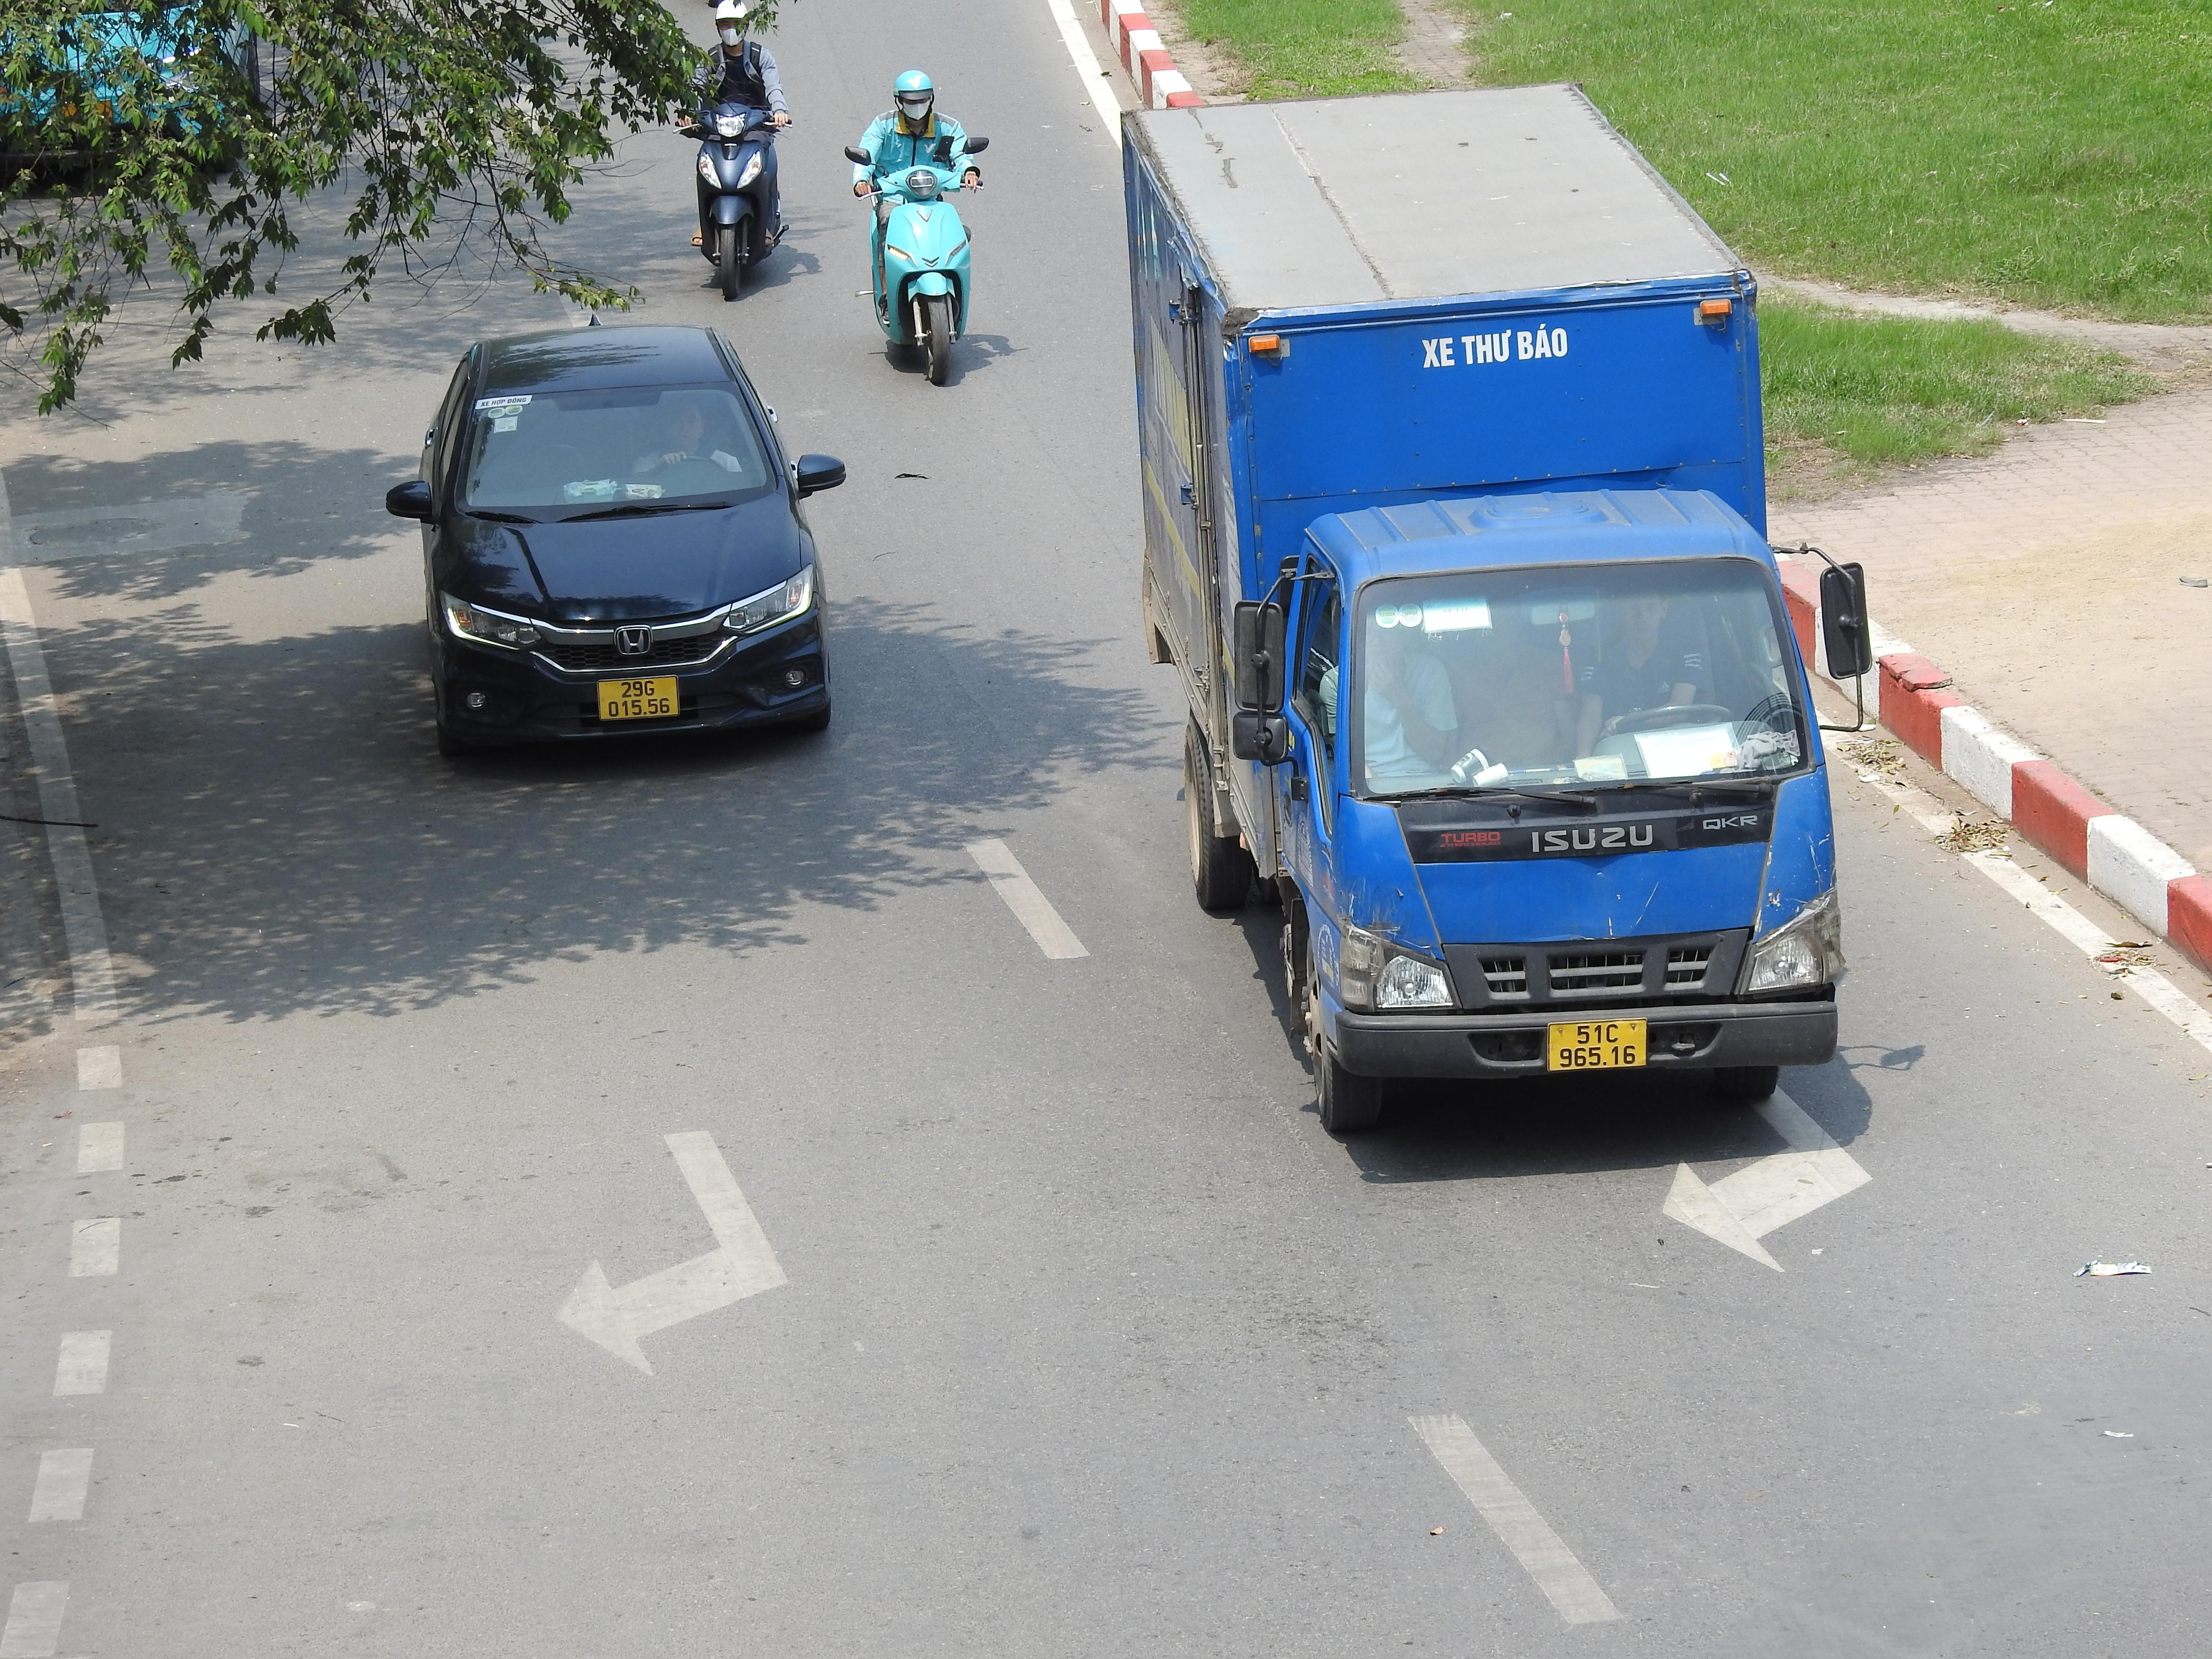BSV: (1547, 1019, 1646, 1072), (599, 676, 681, 720)
car: (387, 321, 848, 758)
motorbike: (848, 66, 986, 385), (683, 3, 792, 301)
truck: (1120, 75, 1878, 1131)
